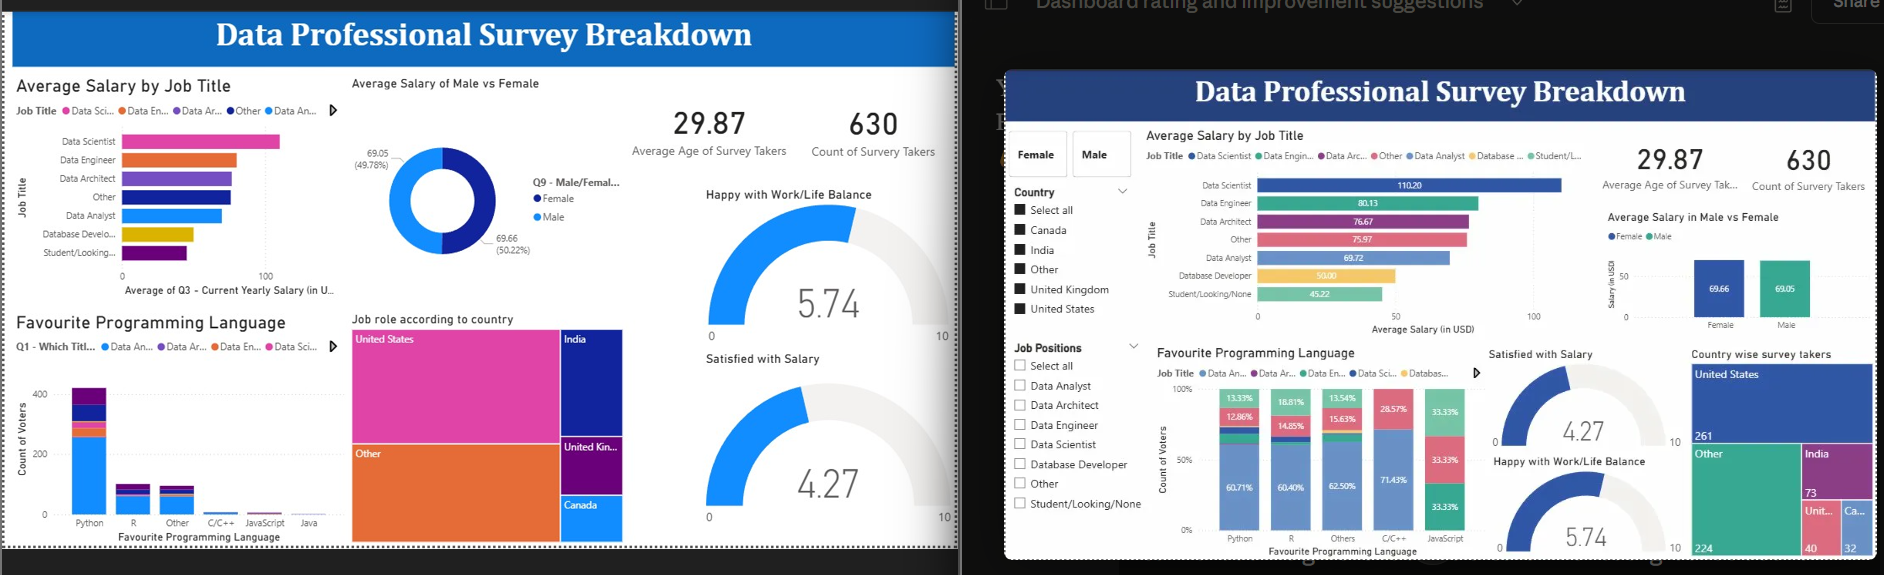

The dashboard page shown, as its layout file describes it:
{"tool":"powerbi","page":{"name":"Page 1","canvas":[1280,720],"ordinal":0},"visuals":[{"type":"textbox","box":[0,0,1279.7,75.1],"z":0},{"type":"card","fields":{"Values":["Count(Data Professional Survey.Unique ID)"]},"box":[1083.9,75,196.4,110.7],"z":1000},{"type":"barChart","title":"Average Salary by Job Title","fields":{"Category":["Data Professional Survey.Q1 - Which Title Best Fits your Current Role?.1"],"Series":["Data Professional Survey.Q1 - Which Title Best Fits your Current Role?.1"],"Y":["Avg(Data Professional Survey.Q3 - Current Yearly Salary (in USD) - Copy.2)"]},"box":[202,84,670.2,309.2],"z":2000},{"type":"hundredPercentStackedColumnChart","title":"Favourite Programming Language","fields":{"Series":["Data Professional Survey.Q1 - Which Title Best Fits your Current Role?.1"],"Y":["CountNonNull(Data Professional Survey.Q1 - Which Title Best Fits your Current Role?.1)"],"Category":["Data Professional Survey.Q5 - Favorite Programming Language.1 (groups)"]},"box":[217.9,403.6,417.9,316.1],"z":3000},{"type":"gauge","title":"Happy with Work/Life Balance","fields":{"MinValue":["Min(Data Professional Survey.Q6 - How Happy are you in your Current Position with the following? (Work/Life Balance))"],"MaxValue":["Max(Data Professional Survey.Q6 - How Happy are you in your Current Position with the following? (Work/Life Balance))"],"Y":["Avg(Data Professional Survey.Q6 - How Happy are you in your Current Position with the following? (Work/Life Balance))"]},"box":[637.5,566.1,317.8,153.6],"z":4000},{"type":"gauge","title":"Satisfied with Salary","fields":{"Y":["Avg(Data Professional Survey.Q6 - How Happy are you in your Current Position with the following? (Salary))"],"MinValue":["Min(Data Professional Survey.Q6 - How Happy are you in your Current Position with the following? (Salary))1"],"MaxValue":["Max(Data Professional Survey.Q6 - How Happy are you in your Current Position with the following? (Salary))2"]},"box":[635.7,405.4,317.8,153.6],"z":5000},{"type":"treemap","title":"Country of Survey Takers","fields":{"Group":["Data Professional Survey.Q11 - Which Country do you live in?.1"],"Values":["CountNonNull(Data Professional Survey.Q1 - Which Title Best Fits your Current Role?.1)"]},"box":[978.6,407.1,287.5,310.7],"z":6000},{"type":"advancedSlicerVisual","fields":{"Values":["Data Professional Survey.Q9 - Male/Female?"]},"box":[0,85.7,191.1,78.6],"z":7000},{"type":"slicer","fields":{"Values":["Data Professional Survey.Q1 - Which Title Best Fits your Current Role?.1"]},"box":[0,405.4,208.9,292.9],"z":8000},{"type":"slicer","fields":{"Values":["Data Professional Survey.Q11 - Which Country do you live in?.1"]},"box":[0,180.4,192.9,212.5],"z":9000},{"type":"card","fields":{"Values":["Avg(Data Professional Survey.Q10 - Current Age)"]},"box":[871.4,75,212.5,110.7],"z":10000},{"type":"donutChart","title":"Difficult to break into Data","fields":{"Category":["Data Professional Survey.Q7 - How difficult was it for you to break into Data?"],"Y":["CountNonNull(Data Professional Survey.Q1 - Which Title Best Fits your Current Role?.1)"]},"box":[871.4,185.7,408.9,223.2],"z":11000}]}

Visuals, with their boxes on the page's 1280x720 design canvas (x1, y1, x2, y2). These are canvas units, not pixel positions in the 1884x575 screenshot, which may show the page scaled, cropped or inside an application window:
textbox: [0,0,1280,75]
card - Count(Data Professional Survey.Unique ID): [1084,75,1280,186]
"Average Salary by Job Title" barChart: [202,84,872,393]
"Favourite Programming Language" hundredPercentStackedColumnChart: [218,404,636,720]
"Happy with Work/Life Balance" gauge: [638,566,955,720]
"Satisfied with Salary" gauge: [636,405,954,559]
"Country of Survey Takers" treemap: [979,407,1266,718]
advancedSlicerVisual - Data Professional Survey.Q9 - Male/Female?: [0,86,191,164]
slicer - Data Professional Survey.Q1 - Which Title Best Fits your Current Role?.1: [0,405,209,698]
slicer - Data Professional Survey.Q11 - Which Country do you live in?.1: [0,180,193,393]
card - Avg(Data Professional Survey.Q10 - Current Age): [871,75,1084,186]
"Difficult to break into Data" donutChart: [871,186,1280,409]
